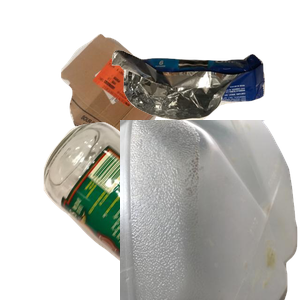cardboard: (58, 31, 222, 188)
glass: (41, 120, 281, 300)
plastic: (120, 120, 300, 300)
trash: (109, 47, 300, 160)
